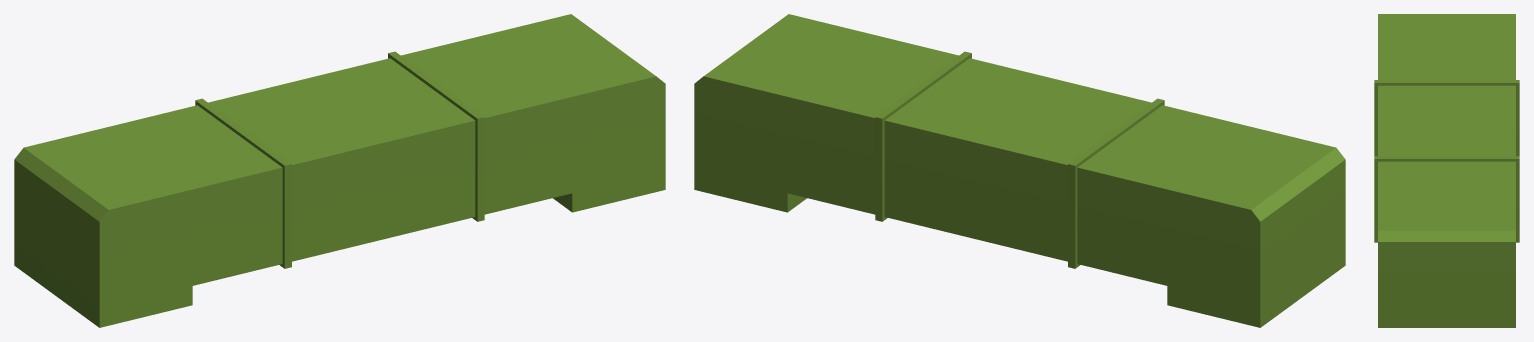
Rendered from HousePart_08.fbx.
3 renders of one model, left to right at view 1: azimuth 30°, elevation 25°; view 2: azimuth 150°, elevation 25°; view 3: azimuth 270°, elevation 25°, orthographic. The views are drawn at different scales.
Visible parts, largest first — view 1: HousePart_08; view 2: HousePart_08; view 3: HousePart_08.
Part boxes in pixels (bbox=[...]): HousePart_08: bbox=[14, 14, 665, 327]; HousePart_08: bbox=[694, 14, 1345, 327]; HousePart_08: bbox=[1374, 14, 1519, 327].
Bounding box in the file's own units: 1.53 × 0.3086 × 0.4206.
